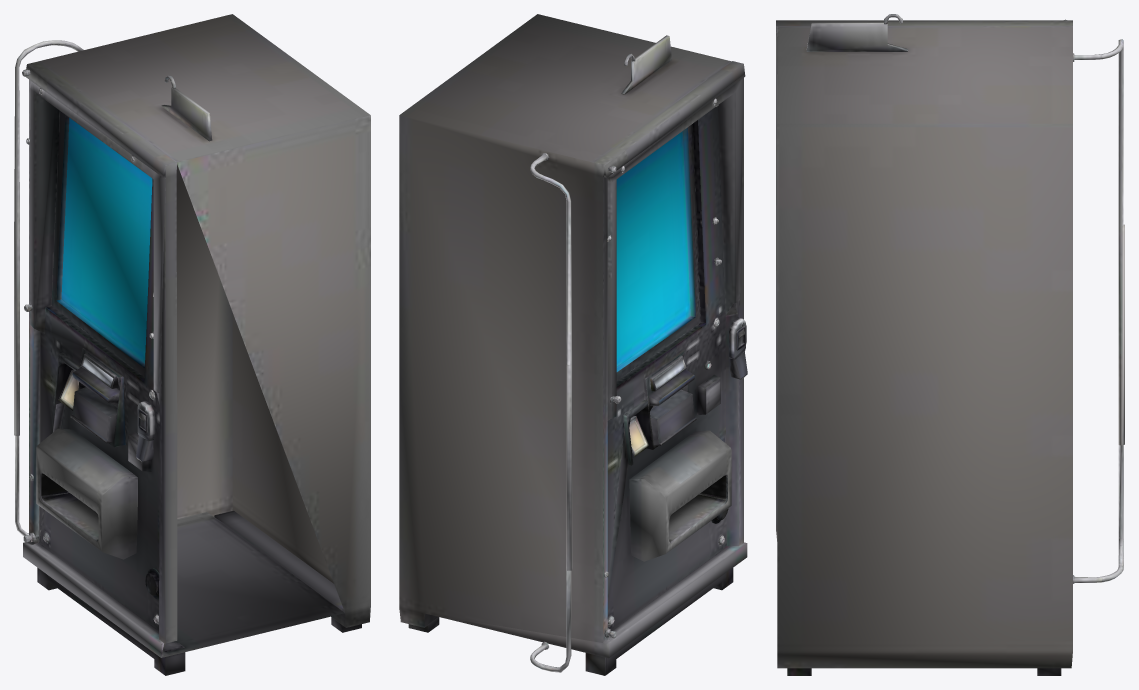
Rendered from subway-kiosk.glb.
The picture shows the model from 3 angles, left to right: view 1: azimuth 30°, elevation 25°; view 2: azimuth 150°, elevation 25°; view 3: azimuth 270°, elevation 25°; orthographic projection. The views are drawn at different scales.
Visible parts, largest first — view 1: tripo_node_64c86a02-5865-4e52-ab47-24f3f334cea4; view 2: tripo_node_64c86a02-5865-4e52-ab47-24f3f334cea4; view 3: tripo_node_64c86a02-5865-4e52-ab47-24f3f334cea4.
Part boxes in pixels (x1,y1,x2,y2): tripo_node_64c86a02-5865-4e52-ab47-24f3f334cea4: [14, 14, 370, 675]; tripo_node_64c86a02-5865-4e52-ab47-24f3f334cea4: [399, 14, 747, 675]; tripo_node_64c86a02-5865-4e52-ab47-24f3f334cea4: [776, 14, 1124, 675].
Size of the model in its own units: 0.7705 by 1.75 by 0.9418.
1 material, 1 textured.
